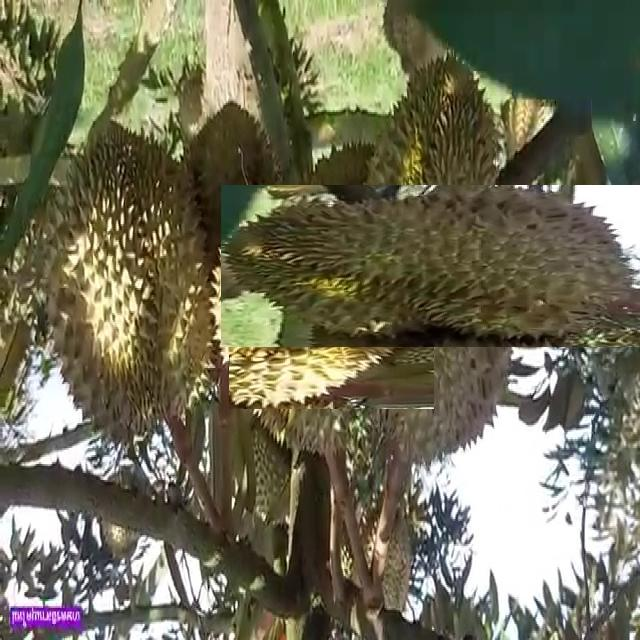durian: (287, 119, 582, 414), (32, 116, 229, 460), (178, 213, 404, 440), (99, 464, 159, 565)
